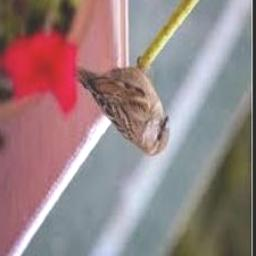Sparrow: (75, 56, 171, 157)
